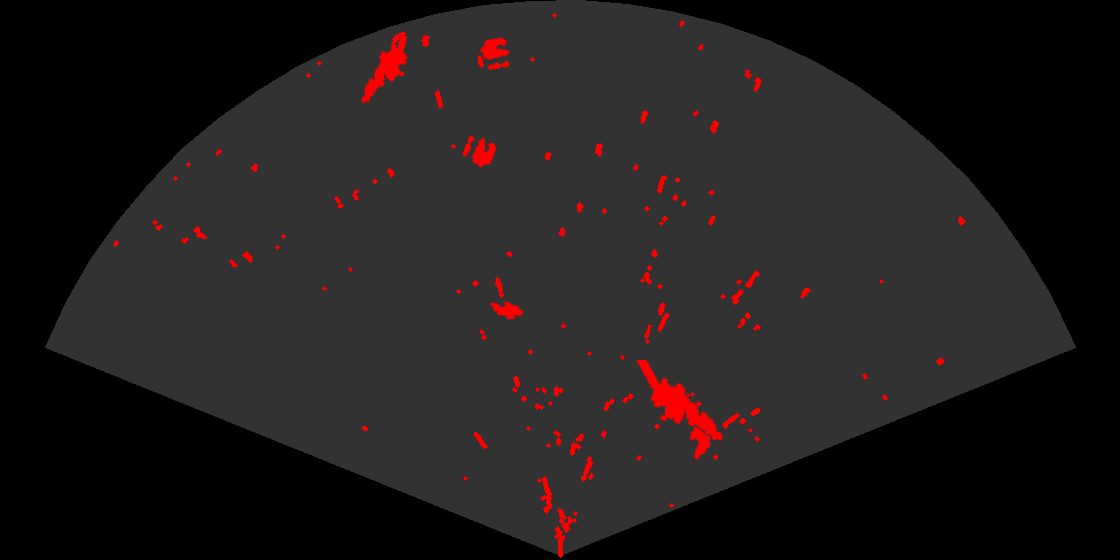AUV: (688, 411, 716, 462), (488, 299, 525, 321)
ball: (461, 134, 498, 169), (479, 36, 511, 71)
frogman: (635, 360, 725, 443), (360, 36, 409, 105)
